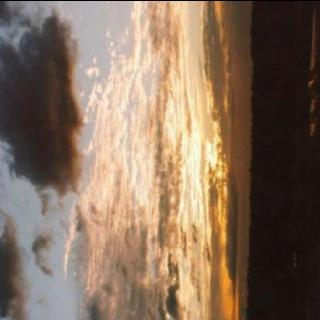Stratocumulus: (0, 0, 240, 320)
